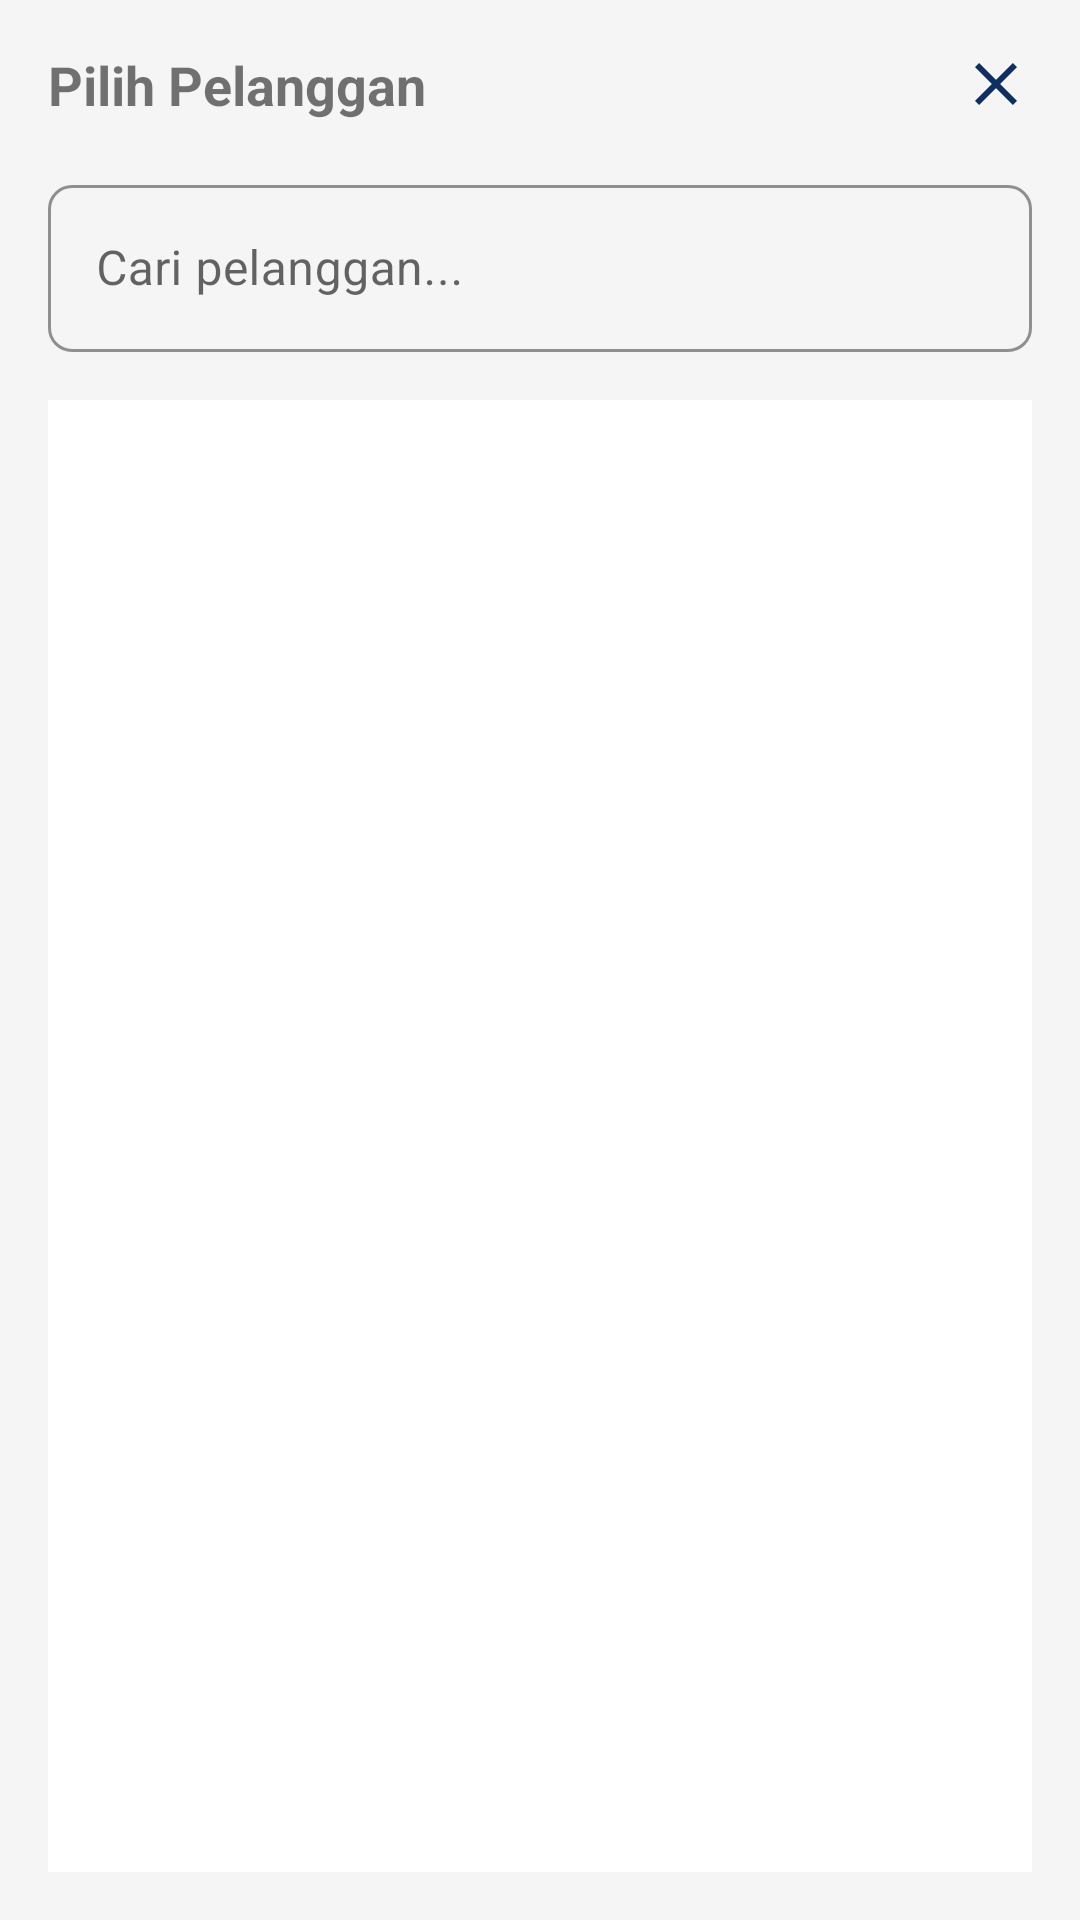

Named icons in this screenshot (1080x1920) and their centers, (x,y):
Tutup: (996,84)
